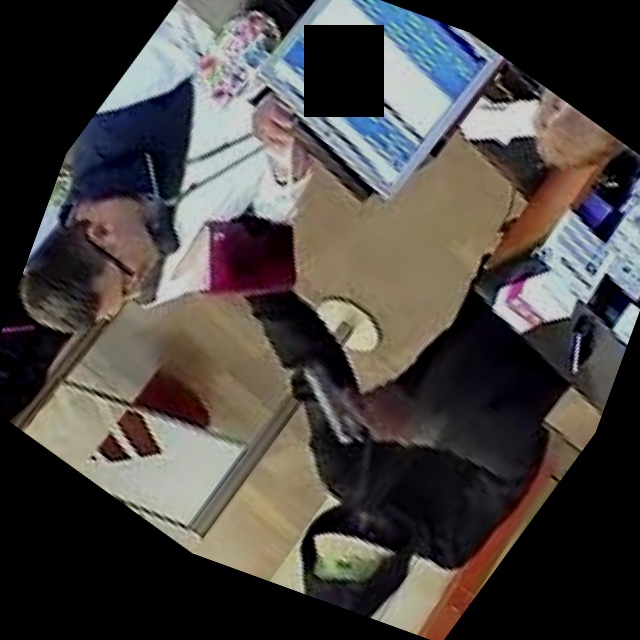gun: (256, 312, 434, 485)
